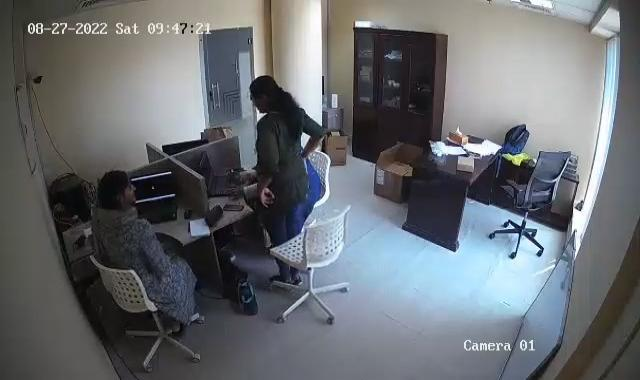no_hairnet: (100, 168, 140, 207), (244, 75, 281, 113)
